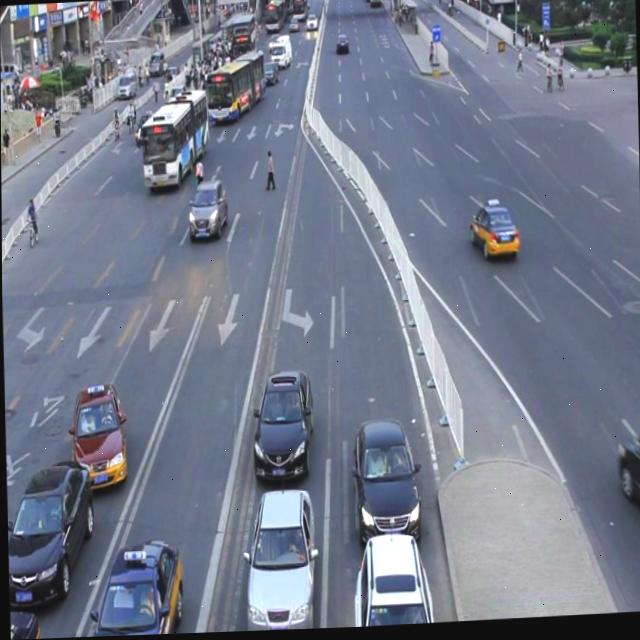car: (5, 454, 96, 607), (240, 481, 317, 633), (80, 531, 183, 638), (350, 416, 422, 548), (349, 527, 437, 629), (248, 366, 313, 483), (68, 379, 128, 489), (468, 204, 518, 263), (615, 433, 640, 550), (186, 178, 228, 243), (9, 604, 41, 640)
van: (139, 88, 209, 188)
